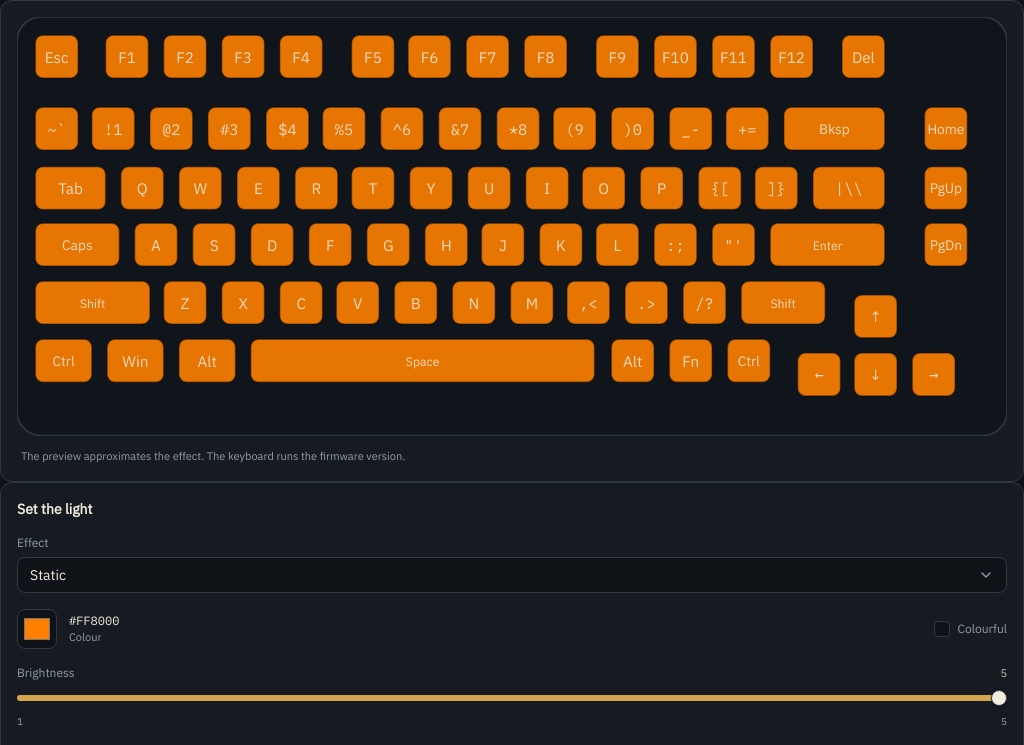
Test: LightingPanel › disables the colour while Colourful is on
The image size is (1024, 745).
Click the dropdown named "Effect" at (48, 575), box [17, 558, 1007, 594]
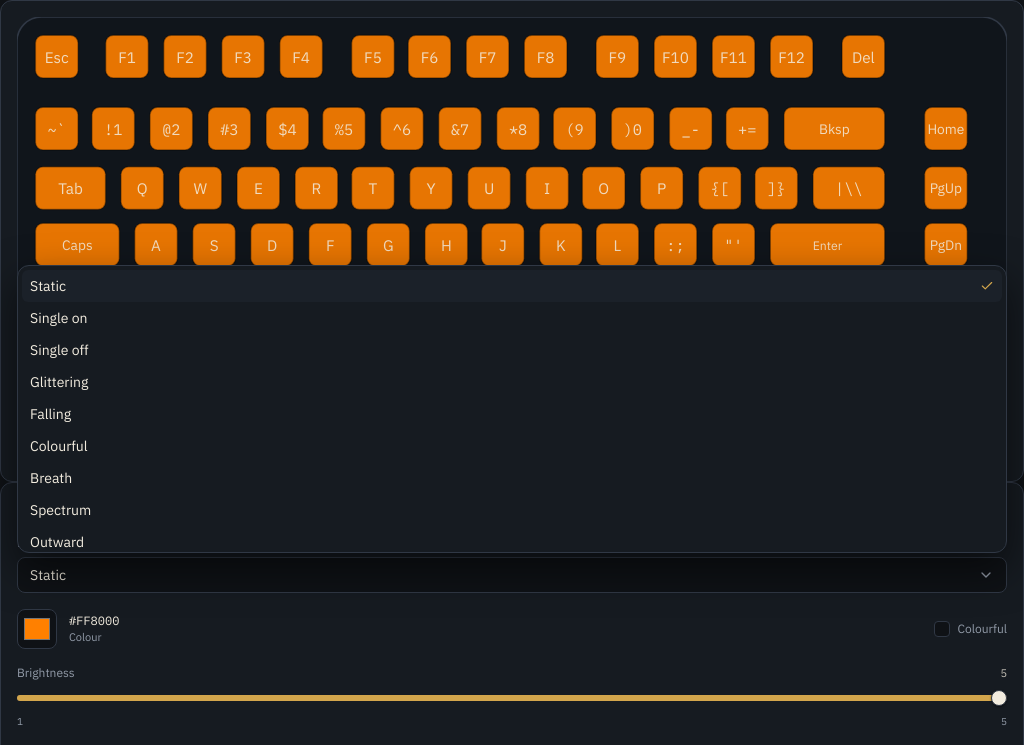
Click the option "Breath" at (51, 478), box [30, 469, 72, 487]
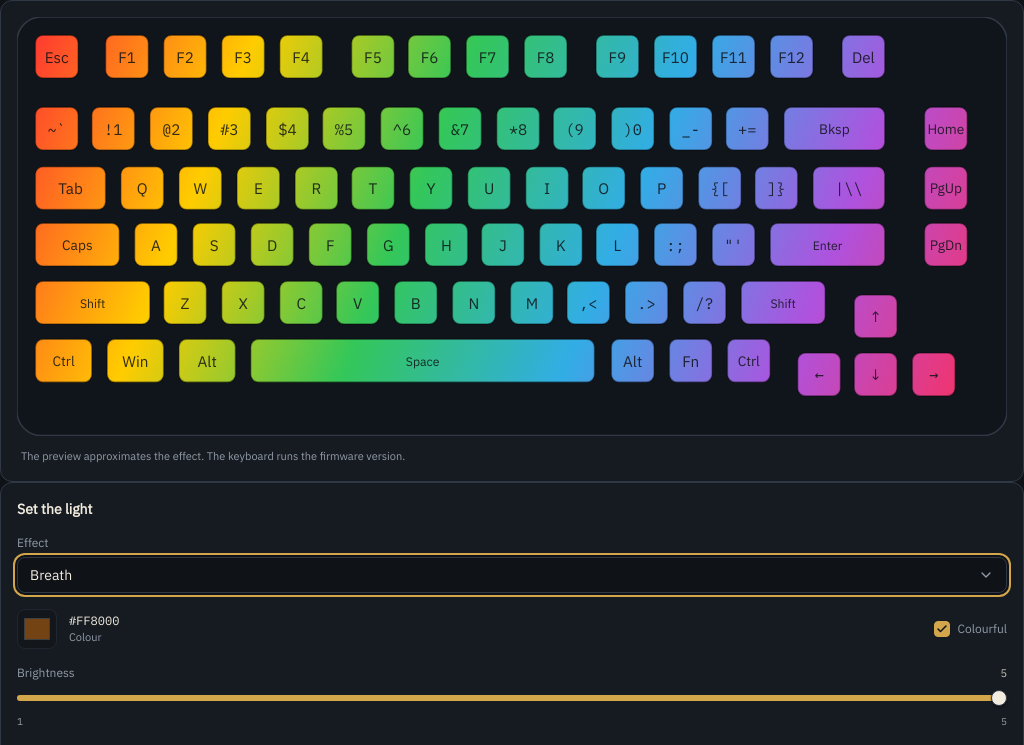
Result: the checkbox named "Colourful" is checked
Result: the colour field named "Colour" is disabled at [17, 610, 57, 650]
Click the checkbox named "Colourful" at (942, 630), box [934, 622, 950, 638]
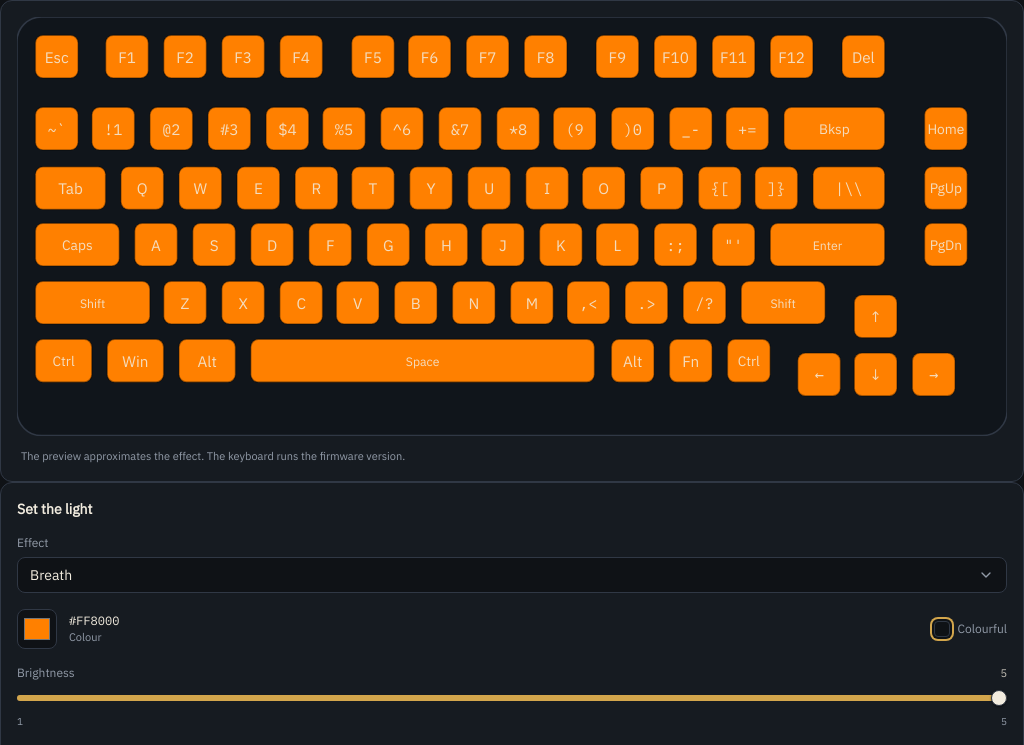
Result: the colour field named "Colour" is enabled at [17, 610, 57, 650]
